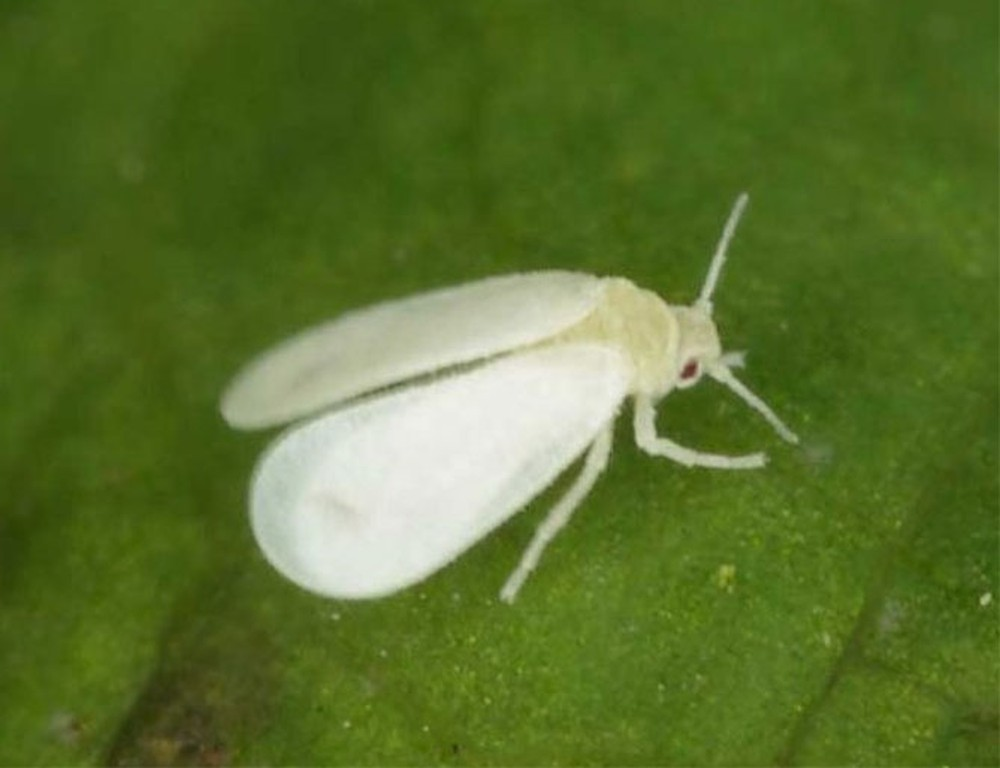Mosca Blanca: (211, 186, 824, 613)
